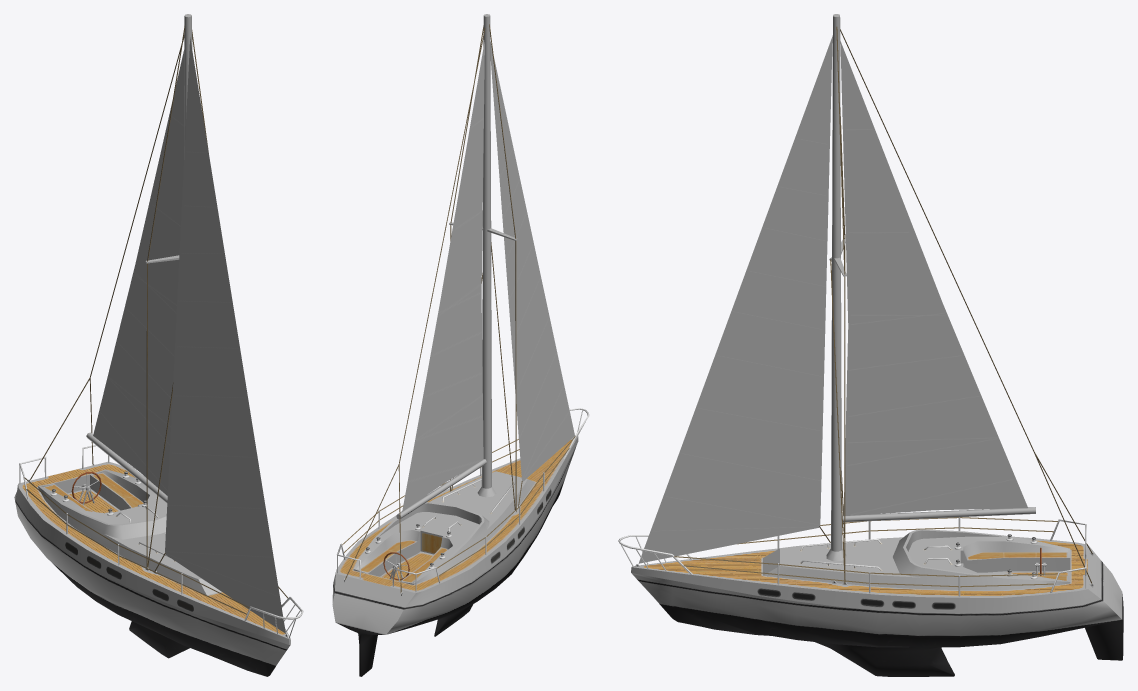
The model's file is Boat.glb.
3 renders of one model, left to right at view 1: azimuth 30°, elevation 25°; view 2: azimuth 150°, elevation 25°; view 3: azimuth 270°, elevation 25°, orthographic. The views are drawn at different scales.
Visible parts, largest first — view 1: Sailboat_01 - Default_0; view 2: Sailboat_01 - Default_0; view 3: Sailboat_01 - Default_0.
Boxes of the visible parts, x1,y1,x2,y2 form: Sailboat_01 - Default_0: (14, 14, 303, 676); Sailboat_01 - Default_0: (332, 14, 589, 676); Sailboat_01 - Default_0: (618, 14, 1123, 676).
Bounding box in the file's own units: 506 × 2441 × 1690.
Materials: 1 (1 with a texture image).
